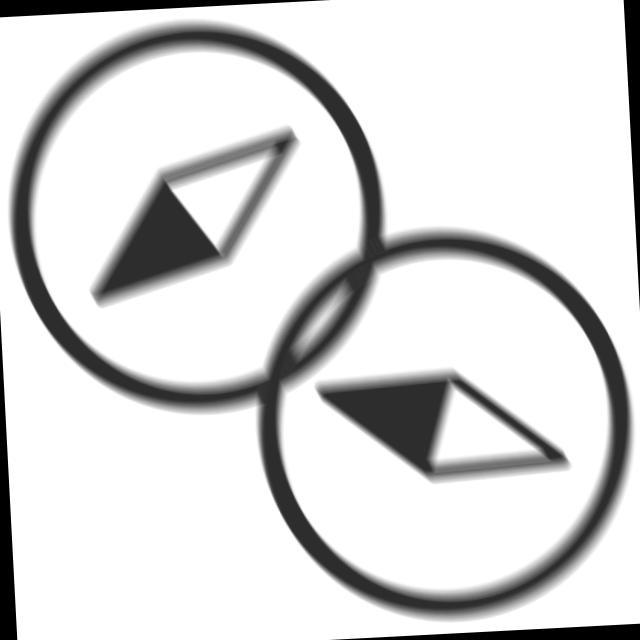compass: (1, 1, 407, 429), (236, 207, 640, 635)
